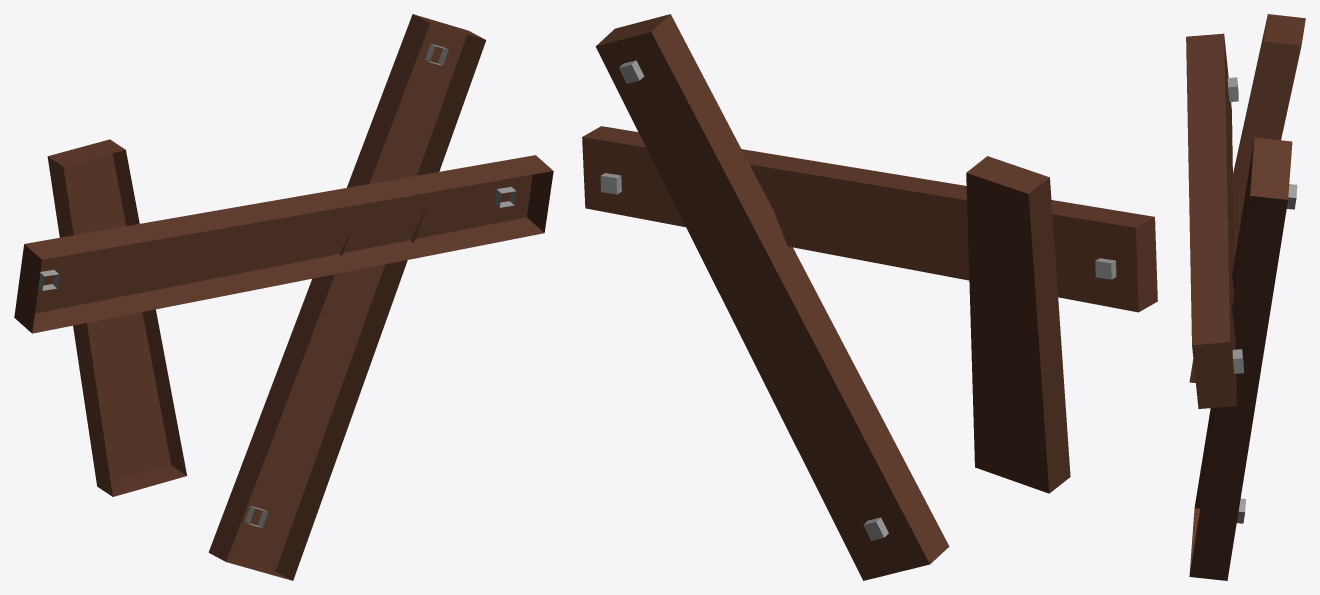
The model's file is Debris 03.FBX.
The picture shows the model from 3 angles, left to right: view 1: azimuth 30°, elevation 25°; view 2: azimuth 150°, elevation 25°; view 3: azimuth 270°, elevation 25°; orthographic projection. The views are drawn at different scales.
Parts seen in each view (by area): view 1: Debris 03; view 2: Debris 03; view 3: Debris 03.
Part boxes in pixels (<box>): Debris 03: <box>14,14,553,580</box>; Debris 03: <box>582,14,1157,580</box>; Debris 03: <box>1186,14,1305,580</box>.
Bounding box in the file's own units: 272 × 248 × 50.84.
1 material, 1 textured.
